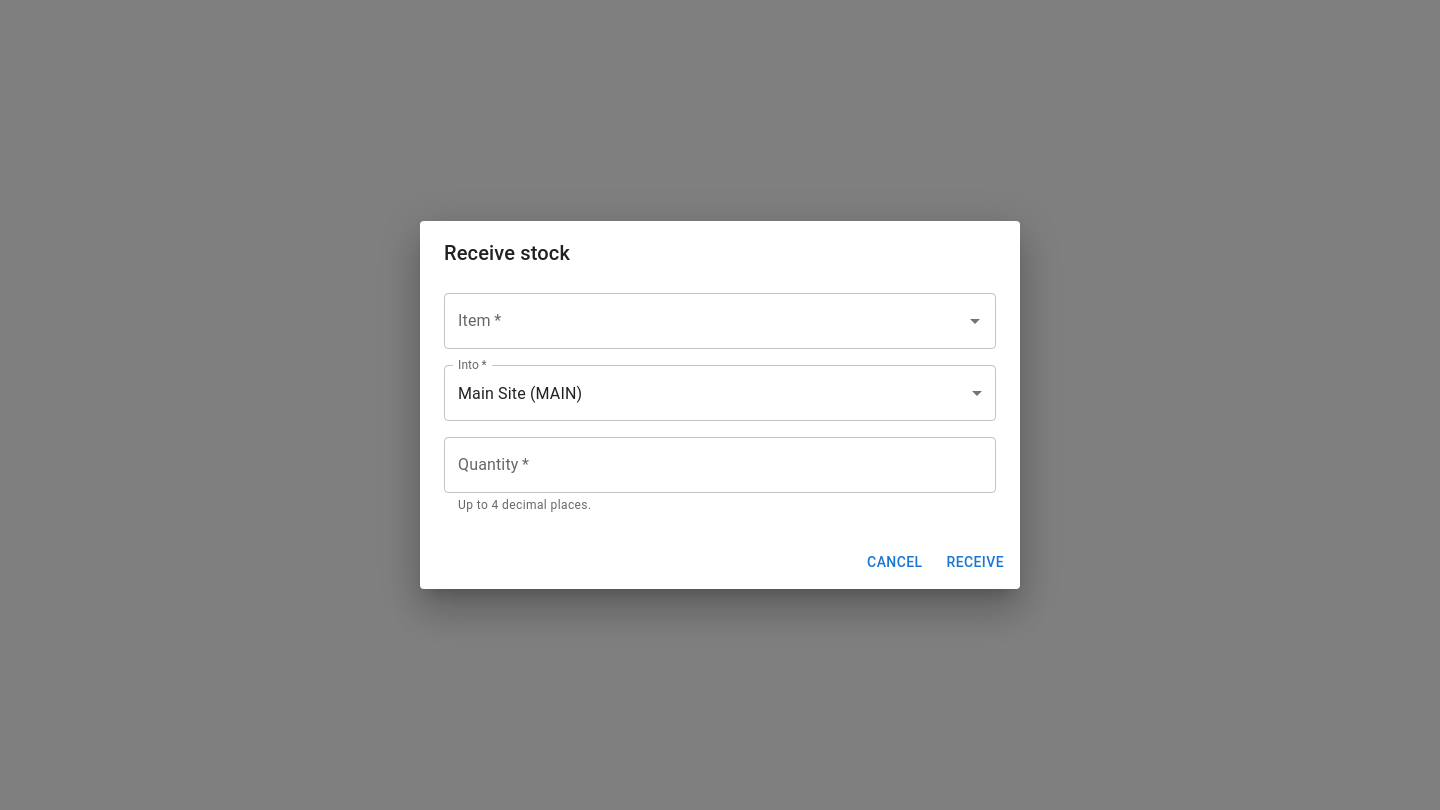
Test case: ReceiveStockDialog › renders a refusal from the server rather than swallowing it
Click the dropdown labelled "Item" at (705, 321), box [453,302,957,340]
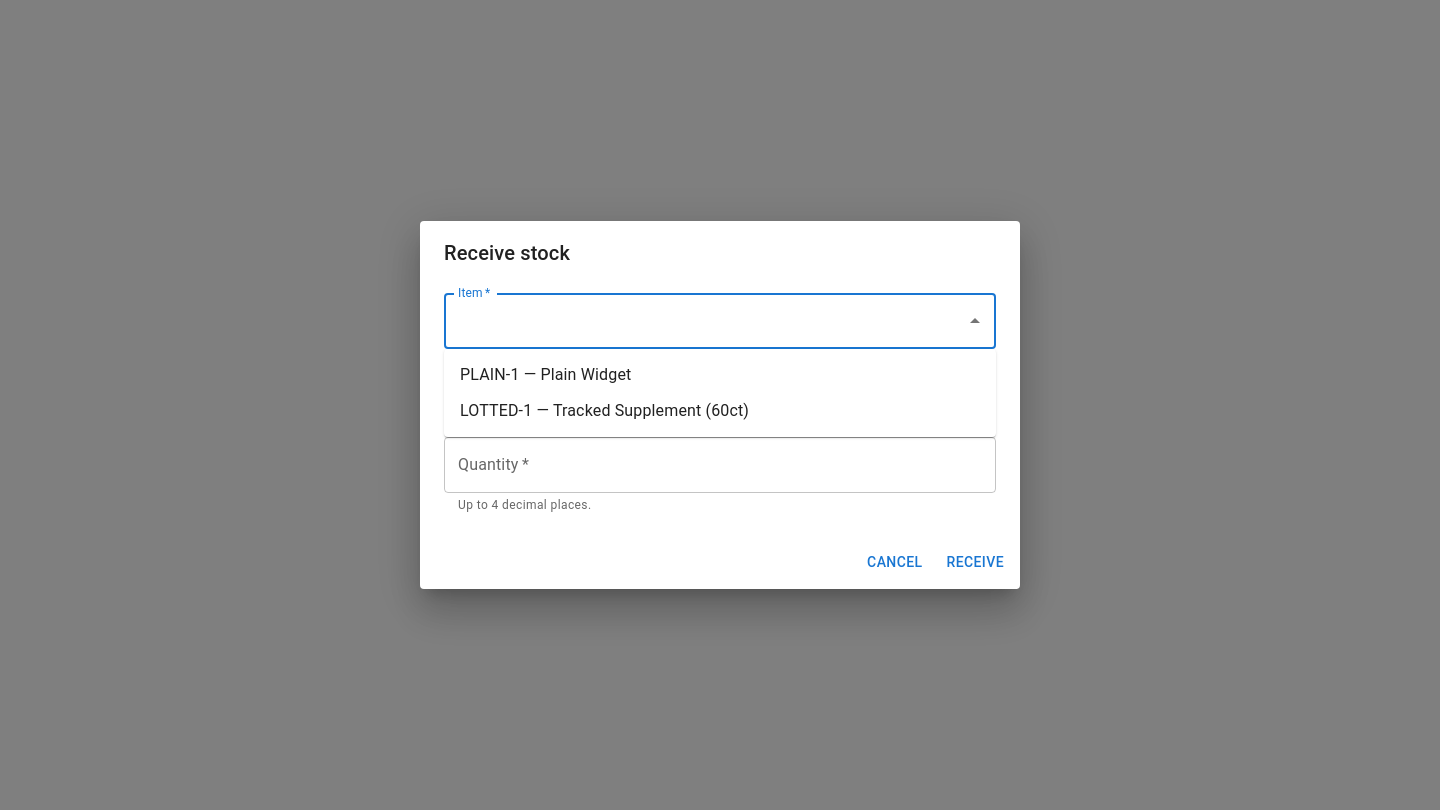
Click the option "PLAIN-1 — Plain Widget" at (546, 374), box [460,365,631,384]
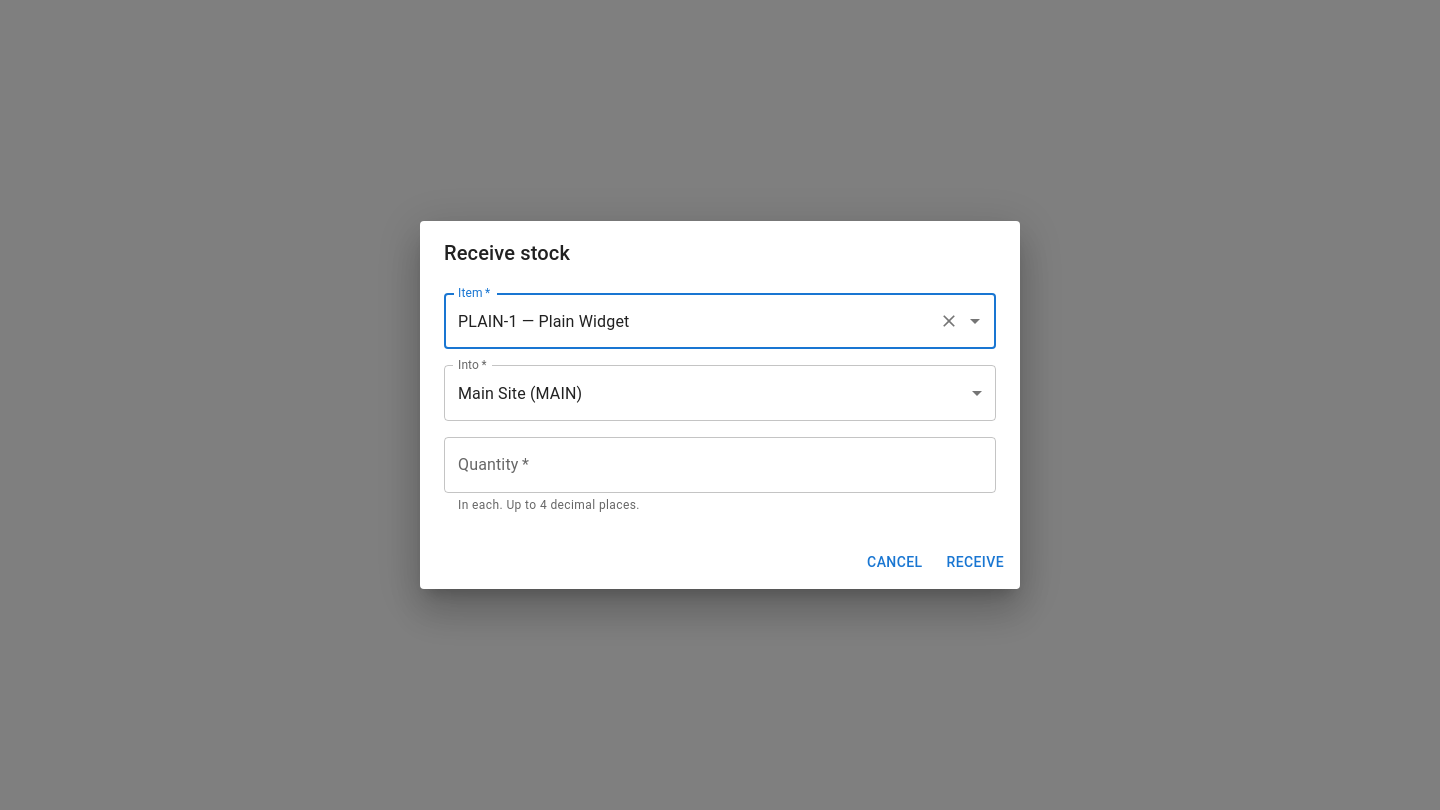
Type "5" into the field labelled "Quantity" at (720, 465), box [444,437,996,493]
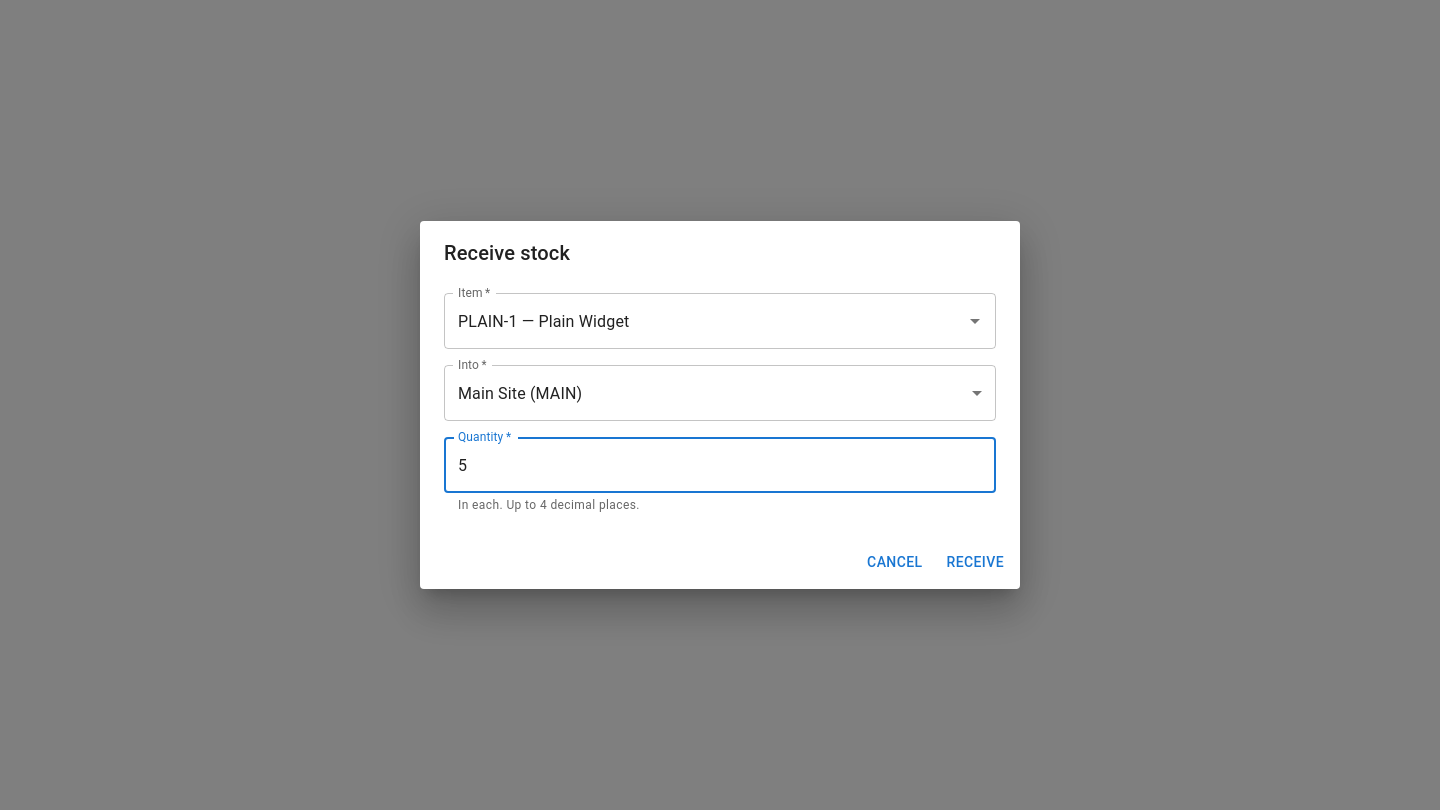
Click the button "Receive" at (975, 562), box [938,544,1012,581]
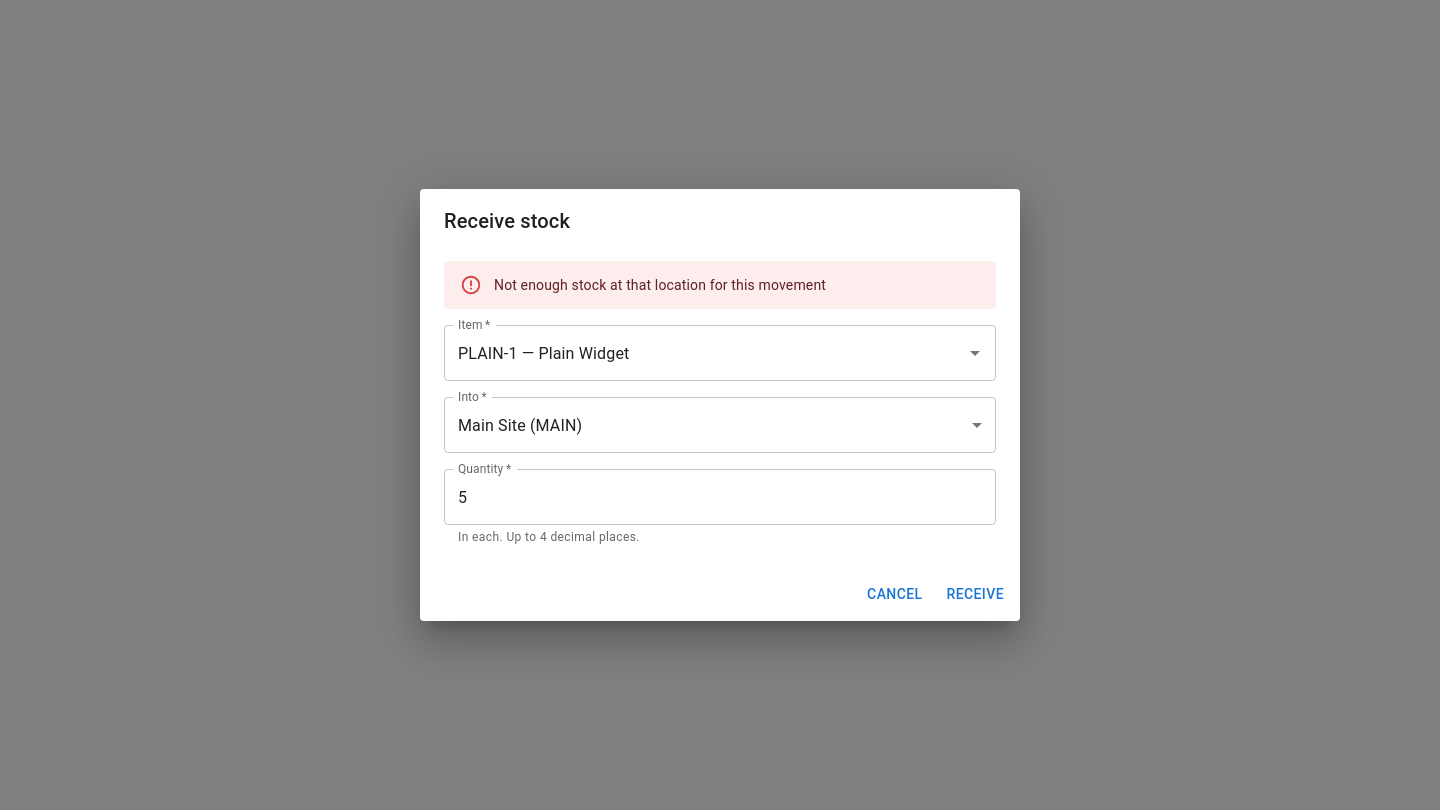
Expected: the message named "Error" shows "Not enough stock", [494,277,826,293]
